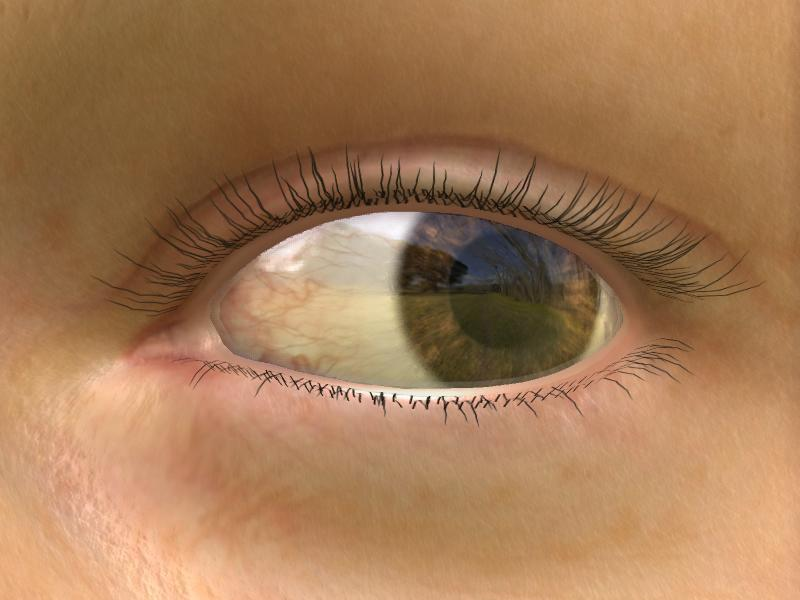eye: (394, 201, 595, 387)
